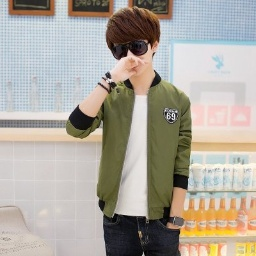face: (105, 6, 161, 75)
